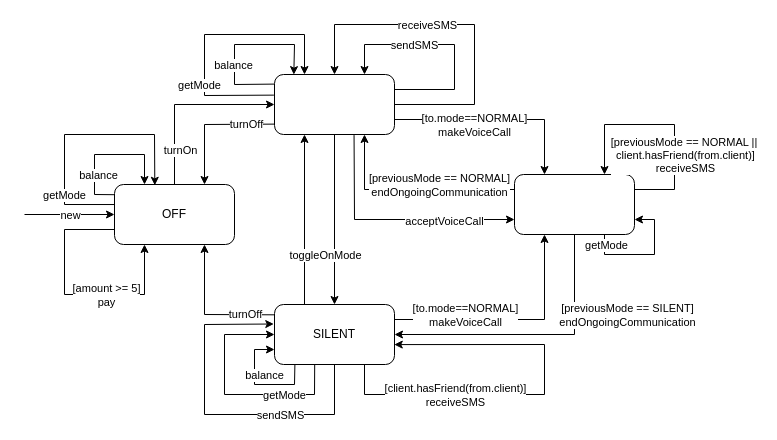
The diagram is 777 pixels wide and 440 high, and some of its shapes have lost their labels. Each missing label, with the box of its shape:
BUSY: (514, 174, 634, 234)
NORMAL: (274, 74, 394, 134)
